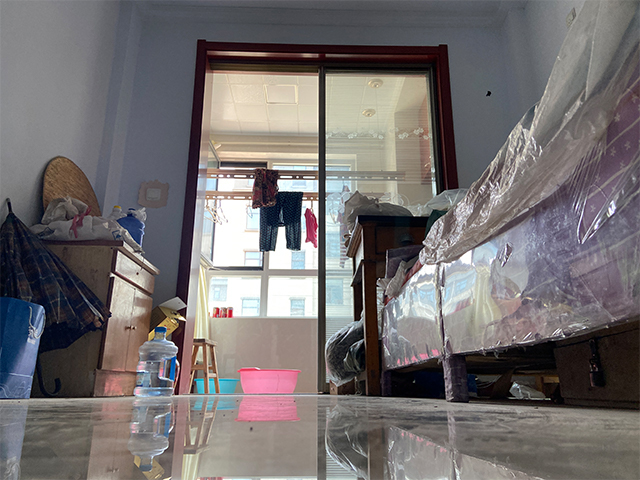bed: (380, 4, 640, 403)
cabinet: (33, 238, 159, 399)
stool: (187, 338, 220, 394)
table: (345, 213, 426, 397)
